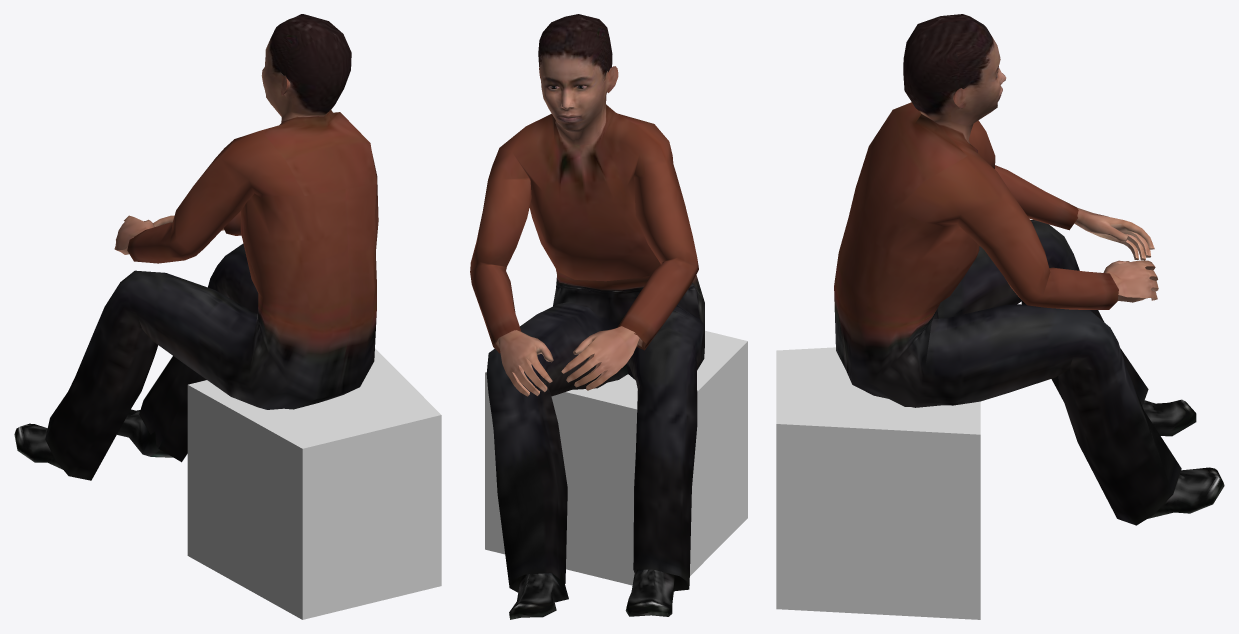
Rendered from Publico.fbx.
3 views of the same model, side by side, from view 1: azimuth 30°, elevation 25°; view 2: azimuth 150°, elevation 25°; view 3: azimuth 270°, elevation 25° (orthographic). The views are drawn at different scales.
Parts seen in each view (by area): view 1: Male000, Seat001; view 2: Male000, Seat001; view 3: Male000, Seat001.
Boxes of the visible parts, x1,y1,x2,y2 form: Male000: (14, 14, 378, 480); Seat001: (187, 348, 441, 619); Male000: (470, 14, 704, 619); Seat001: (485, 330, 747, 592); Male000: (834, 14, 1224, 525); Seat001: (776, 347, 980, 619).
Bounding box in the file's own units: 29.04 × 54.6 × 39.47.
2 materials, 1 textured.
